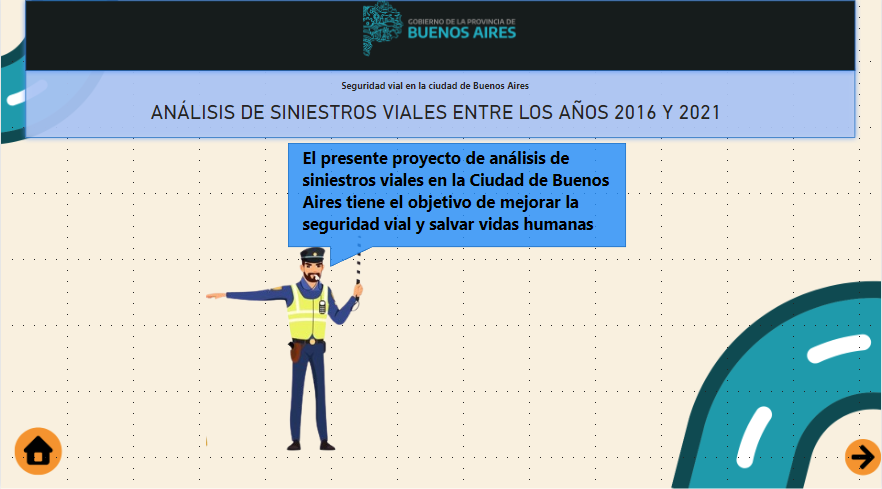

This screenshot's page, from the dashboard's own definition file:
{"tool":"powerbi","page":{"name":"Presentación","canvas":[1280,720],"ordinal":1},"visuals":[{"type":"shape","box":[28.1,99,1222.9,116.7],"z":0},{"type":"shape","box":[28.1,0,1222.9,118.2],"z":1000},{"type":"image","box":[499.2,0,279.1,99],"z":2000},{"type":"textbox","box":[212.7,147.7,852.2,45.8],"z":3000},{"type":"textbox","box":[490.2,117.8,298.2,30.5],"z":4000},{"type":"image","box":[279.6,298.1,274.5,422.7],"z":6000},{"type":"actionButton","box":[1226.1,648.4,53.9,47.2],"z":7000},{"type":"actionButton","box":[11.8,633.3,79.2,62.3],"z":8000},{"type":"shape","box":[417.7,215.6,491.8,180.2],"z":9000},{"type":"textbox","box":[432.8,215.6,476.6,170.1],"z":10000}]}

Visuals, with their boxes in screenshot pixels (x1, y1, x2, y2), scaled from the page's 1280x720 canvas onto the 882x489 screenshot:
shape: 19,67,862,146
shape: 19,0,862,80
image: 344,0,536,67
textbox: 147,100,734,131
textbox: 338,80,543,101
image: 193,202,382,488
actionButton: 845,440,881,472
actionButton: 8,430,63,472
shape: 288,146,627,269
textbox: 298,146,627,262
